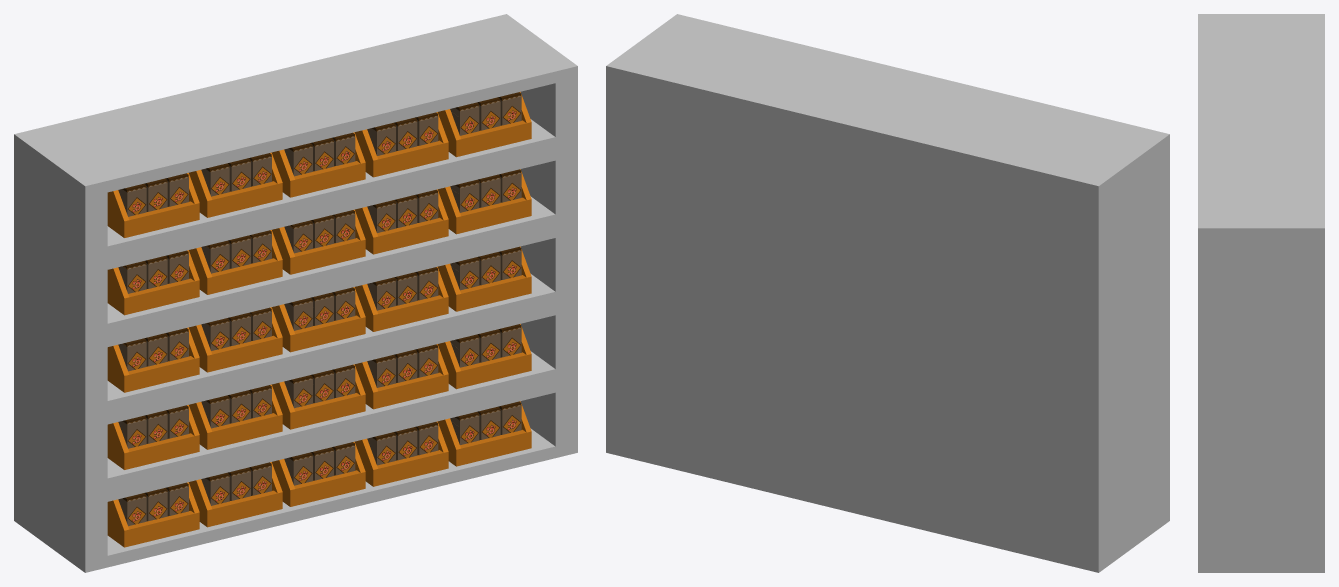
The model's file is Evelmart_Shelf_Earth (1).fbx.
The picture shows the model from 3 angles, left to right: view 1: azimuth 30°, elevation 25°; view 2: azimuth 150°, elevation 25°; view 3: azimuth 270°, elevation 25°; orthographic projection. The views are drawn at different scales.
Visible parts, largest first — view 1: Earth; view 2: Earth; view 3: Earth.
Part boxes in pixels (x1=…): Earth: x1=14, y1=14, x2=577, y2=572; Earth: x1=606, y1=14, x2=1169, y2=572; Earth: x1=1198, y1=14, x2=1324, y2=572.
Size of the model in its own units: 805 by 604 by 201.
